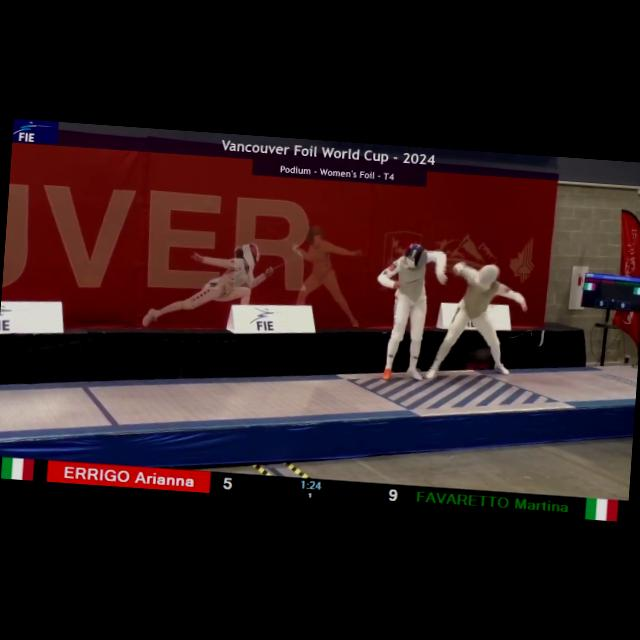blade: (433, 276, 461, 366)
